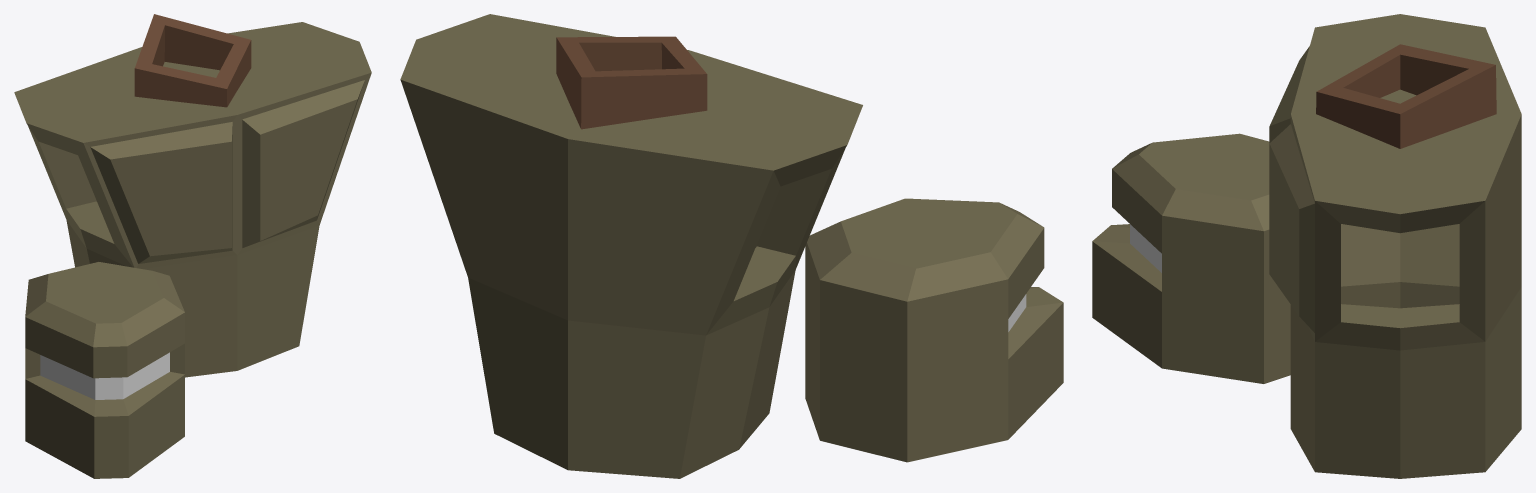
File: Armor.fbx
The picture shows the model from 3 angles, left to right: view 1: azimuth 30°, elevation 25°; view 2: azimuth 150°, elevation 25°; view 3: azimuth 270°, elevation 25°; orthographic projection. The views are drawn at different scales.
Parts seen in each view (by area): view 1: Cube; view 2: Cube; view 3: Cube.
Boxes of the visible parts, x1,y1,x2,y2 form: Cube: (14, 14, 371, 478); Cube: (400, 14, 1063, 478); Cube: (1092, 14, 1521, 478).
Size of the model in its own units: 207 by 149 by 158.
